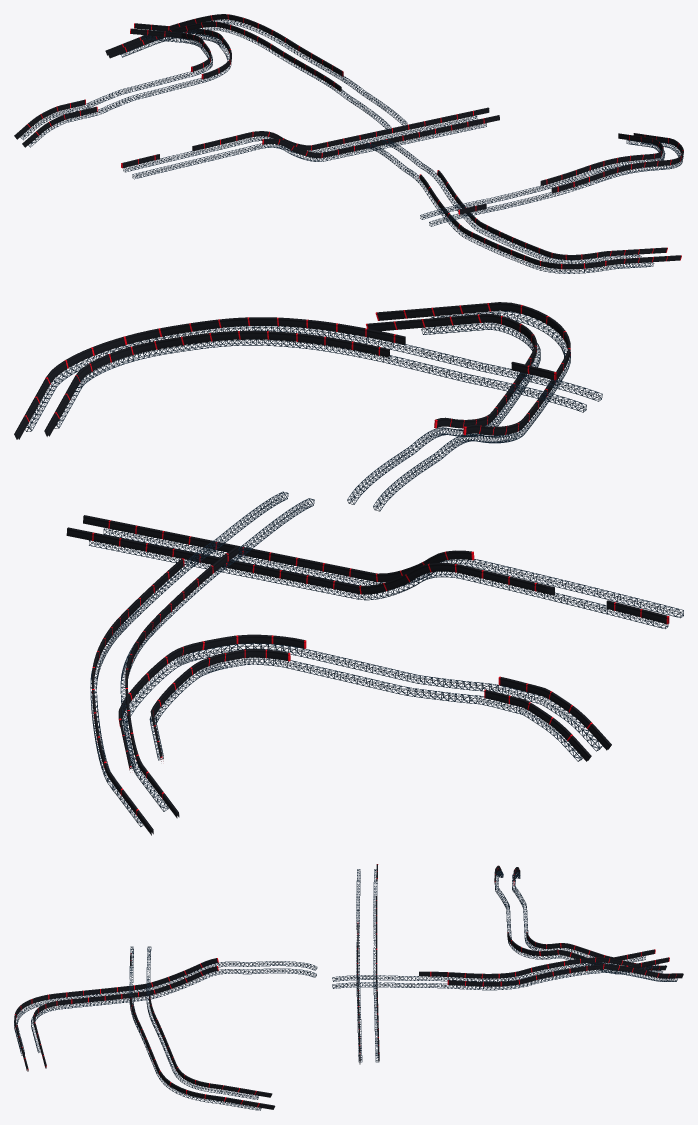
The model's file is test_roads.fbx.
3 views of the same model, one above another, from view 1: azimuth 30°, elevation 25°; view 2: azimuth 150°, elevation 25°; view 3: azimuth 270°, elevation 25° (orthographic). The views are drawn at different scales.
Parts seen in each view (by area): view 1: Cube.054, Cube.029, Cube.057, Cube.052, Cube.053, Cube.035, Cube.058, Cube.059, Cube.056, Cube.050; view 2: Cube.054, Cube.056, Cube.035, Cube.053, Cube.029, Cube.059, Cube.057, Cube.052, Cube.050, Cube.058; view 3: Cube.058, Cube.052, Cube.050, Cube.057, Cube.056, Cube.053, Cube.059, Cube.035, Cube.029, Cube.054.
Part boxes in pixels (left/top/right/bottom): Cube.054: left=121, top=107, right=499, bottom=168; Cube.029: left=123, top=116, right=486, bottom=179; Cube.057: left=419, top=170, right=681, bottom=269; Cube.052: left=365, top=140, right=654, bottom=273; Cube.053: left=420, top=140, right=683, bottom=226; Cube.035: left=20, top=30, right=231, bottom=147; Cube.058: left=105, top=14, right=343, bottom=91; Cube.059: left=14, top=23, right=231, bottom=147; Cube.056: left=458, top=133, right=683, bottom=214; Cube.050: left=120, top=19, right=407, bottom=130; Cube.054: left=66, top=515, right=669, bottom=624; Cube.056: left=14, top=317, right=556, bottom=439; Cube.035: left=122, top=643, right=602, bottom=768; Cube.053: left=25, top=326, right=602, bottom=431; Cube.029: left=89, top=528, right=683, bottom=628; Cube.059: left=118, top=634, right=611, bottom=772; Cube.057: left=366, top=302, right=570, bottom=435; Cube.052: left=347, top=311, right=570, bottom=511; Cube.050: left=90, top=491, right=314, bottom=826; Cube.058: left=92, top=546, right=238, bottom=835; Cube.058: left=419, top=957, right=683, bottom=986; Cube.052: left=14, top=961, right=317, bottom=1055; Cube.050: left=332, top=962, right=677, bottom=990; Cube.057: left=14, top=958, right=218, bottom=1071; Cube.056: left=130, top=953, right=275, bottom=1109; Cube.053: left=129, top=946, right=261, bottom=1110; Cube.059: left=494, top=865, right=669, bottom=970; Cube.035: left=495, top=871, right=658, bottom=974; Cube.029: left=356, top=869, right=379, bottom=1062; Cube.054: left=357, top=864, right=379, bottom=1064.
Bounding box in the file's own units: 9351 × 980 × 11857.
